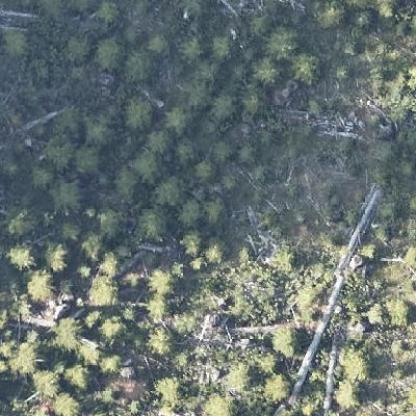tree-top: (120, 95, 159, 133), (49, 172, 83, 215), (85, 271, 123, 308), (24, 264, 56, 306), (92, 34, 127, 71), (257, 371, 293, 406), (149, 175, 185, 206), (338, 350, 375, 380), (311, 0, 348, 30), (134, 206, 166, 239), (151, 372, 183, 404), (289, 50, 321, 82), (270, 324, 300, 358), (250, 56, 284, 86), (142, 326, 176, 356), (203, 230, 232, 265), (130, 149, 159, 183), (383, 292, 412, 326), (30, 366, 60, 398), (331, 381, 363, 410), (46, 390, 83, 415), (54, 316, 79, 352), (9, 242, 36, 272), (210, 93, 236, 120)
